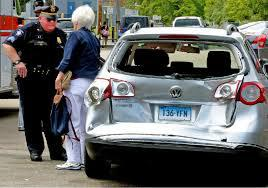Rear-windscreen-Damage: (114, 33, 243, 78)
boot-dent: (113, 76, 242, 133)
